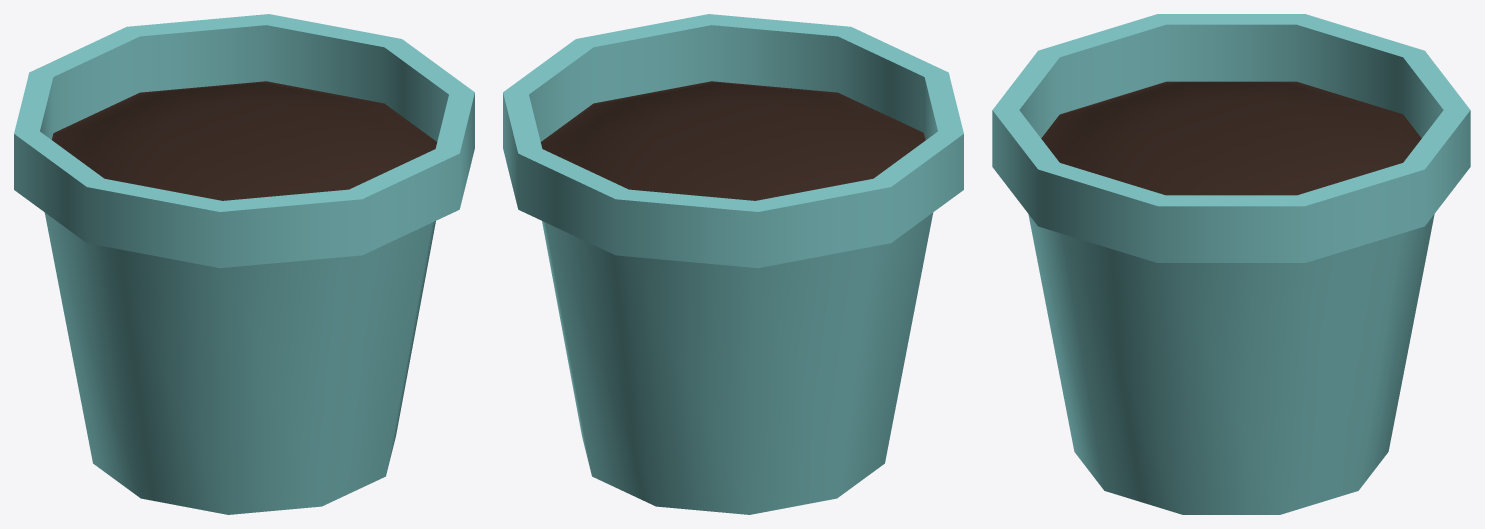
File: furniture_garden_210041.glb
The picture shows the model from 3 angles, left to right: view 1: azimuth 30°, elevation 25°; view 2: azimuth 150°, elevation 25°; view 3: azimuth 270°, elevation 25°; orthographic projection.
Visible parts, largest first — view 1: furniture_garden_210041; view 2: furniture_garden_210041; view 3: furniture_garden_210041.
Boxes of the visible parts, <box> form: furniture_garden_210041: <box>14,14,474,514</box>; furniture_garden_210041: <box>503,14,963,514</box>; furniture_garden_210041: <box>992,14,1470,514</box>.
Bounding box in the file's own units: 0.4341 × 0.36 × 0.4564.
1 material, 1 textured.
